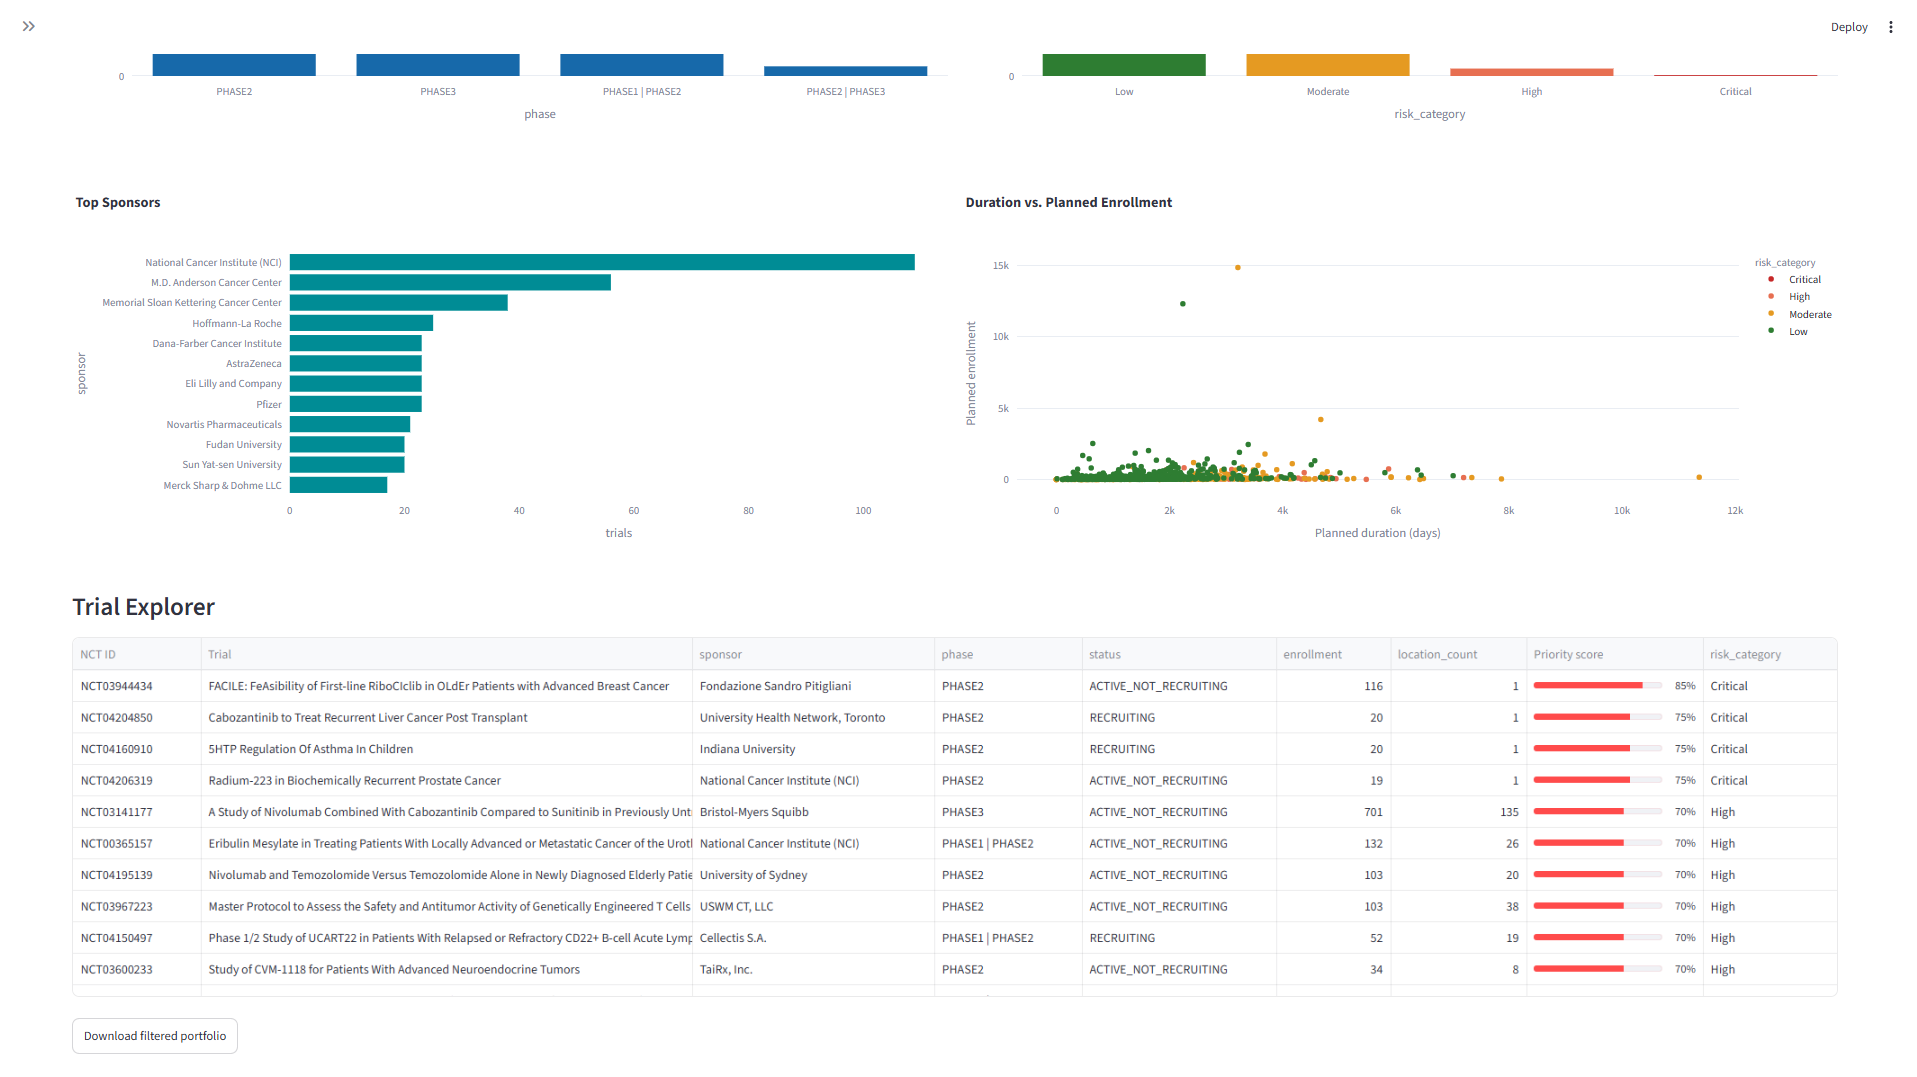

Layout of this report page (visuals, bound fields, positions):
{"tool":"powerbi","page":{"name":"Portfolio Health","canvas":[1280,720],"ordinal":1},"visuals":[{"type":"cardVisual","fields":{"Data":["_Measures.High Priority Trials"]},"box":[0,156.6,205.2,98.2],"z":0},{"type":"cardVisual","fields":{"Data":["_Measures.High Priority Rate"]},"box":[205.2,156.6,221.8,98.2],"z":1000},{"type":"cardVisual","fields":{"Data":["_Measures.Stale Registry Records"]},"box":[427,156.6,213,98.2],"z":2000},{"type":"cardVisual","fields":{"Data":["_Measures.Limited-Site Trials"]},"box":[629.3,156.6,194.5,98.2],"z":3000},{"type":"cardVisual","fields":{"Data":["_Measures.Overdue Active Trials"]},"box":[823.3,157.1,220.9,98.2],"z":4000},{"type":"cardVisual","fields":{"Data":["_Measures.Average Record Completeness"]},"box":[1044.2,157.1,235.6,98.2],"z":5000},{"type":"clusteredColumnChart","title":"Trials by Planned Duration","fields":{"Category":["Trials.duration_band"],"Y":["_Measures.Total Trials"]},"box":[0,255.2,535,203.7],"z":6000},{"type":"clusteredBarChart","title":"Trials by Planned Enrollment","fields":{"Category":["Trials.enrollment_band"],"Y":["_Measures.Total Trials"]},"box":[0,458.9,535,211],"z":7000},{"type":"donutChart","title":"Registry Freshness Profile","fields":{"Category":["Trials.Registry Freshness"],"Y":["_Measures.Total Trials"]},"box":[535,255.2,354.6,414.7],"z":8000},{"type":"clusteredBarChart","title":"High/Critical Priority by Sponsor Class","fields":{"Category":["Trials.sponsor_class"],"Y":["_Measures.High Priority Trials"]},"box":[889.6,255.2,390.2,414.7],"z":9000},{"type":"slicer","title":"Phase","fields":{"Values":["Trials.phase_clean"]},"box":[0,79.8,265,76.8],"z":10000},{"type":"slicer","title":"Trial Status","fields":{"Values":["Trials.status"]},"box":[264.6,79.8,265,76.8],"z":11000},{"type":"slicer","title":"Sponsor Class","fields":{"Values":["Trials.sponsor_class"]},"box":[529.1,79.8,265,76.8],"z":12000},{"type":"cardVisual","title":"Data Through","fields":{"Data":["_Measures.Latest Registry Update"]},"box":[1058.2,79.8,221.8,76.8],"z":13000},{"type":"textbox","title":"Portfolio Health & Monitoring Analysis","box":[0,0,1280,79.8],"z":14000},{"type":"textbox","box":[0,669.9,1281,50.3],"z":15000},{"type":"slicer","title":"Monitoring Priority","fields":{"Values":["Trials.risk_category"]},"box":[793.7,79.8,265,76.8],"z":16000}]}

Visuals, with their boxes on the page's 1280x720 design canvas (x1, y1, x2, y2). These are canvas units, not pixel positions in the 1917x1077 screenshot, which may show the page scaled, cropped or inside an application window:
cardVisual - _Measures.High Priority Trials: [0,157,205,255]
cardVisual - _Measures.High Priority Rate: [205,157,427,255]
cardVisual - _Measures.Stale Registry Records: [427,157,640,255]
cardVisual - _Measures.Limited-Site Trials: [629,157,824,255]
cardVisual - _Measures.Overdue Active Trials: [823,157,1044,255]
cardVisual - _Measures.Average Record Completeness: [1044,157,1280,255]
"Trials by Planned Duration" clusteredColumnChart: [0,255,535,459]
"Trials by Planned Enrollment" clusteredBarChart: [0,459,535,670]
"Registry Freshness Profile" donutChart: [535,255,890,670]
"High/Critical Priority by Sponsor Class" clusteredBarChart: [890,255,1280,670]
"Phase" slicer: [0,80,265,157]
"Trial Status" slicer: [265,80,530,157]
"Sponsor Class" slicer: [529,80,794,157]
"Data Through" cardVisual: [1058,80,1280,157]
"Portfolio Health & Monitoring Analysis" textbox: [0,0,1280,80]
textbox: [0,670,1281,720]
"Monitoring Priority" slicer: [794,80,1059,157]
